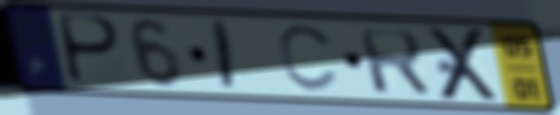6: (126, 16, 187, 91)
C: (275, 23, 342, 96)
I: (211, 18, 238, 93)
P: (58, 11, 125, 88)
R: (354, 27, 435, 99)
X: (425, 25, 505, 103)
